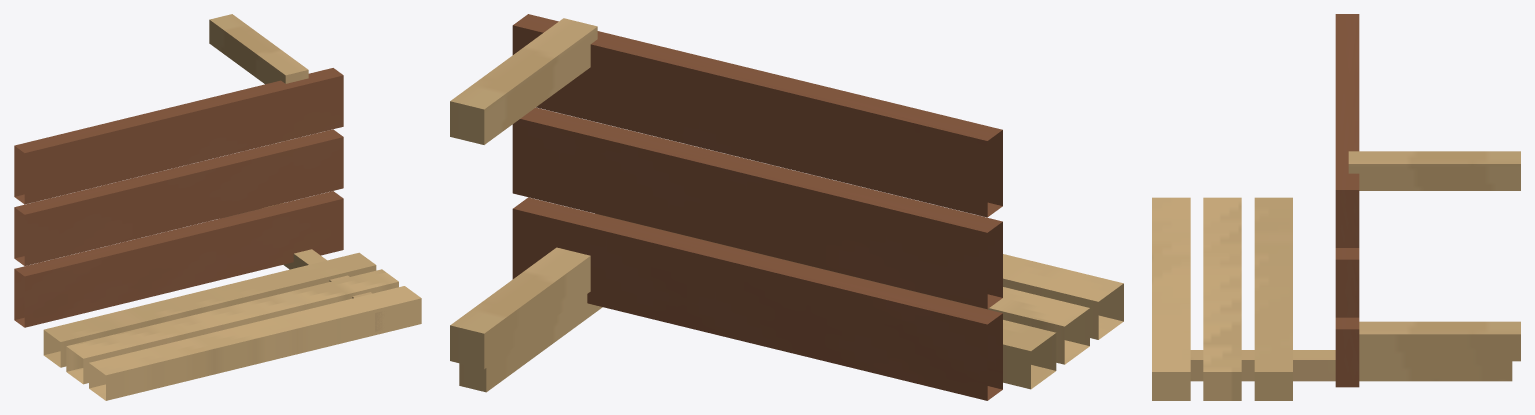
The model's file is pz_benche_seating_indoor_02_sturdy_1_0.obj.
The picture shows the model from 3 angles, left to right: view 1: azimuth 30°, elevation 25°; view 2: azimuth 150°, elevation 25°; view 3: azimuth 270°, elevation 25°; orthographic projection. The views are drawn at different scales.
Size of the model in its own units: 0.975 by 0.575 by 0.8638.
Materials: 1 (1 with a texture image).
